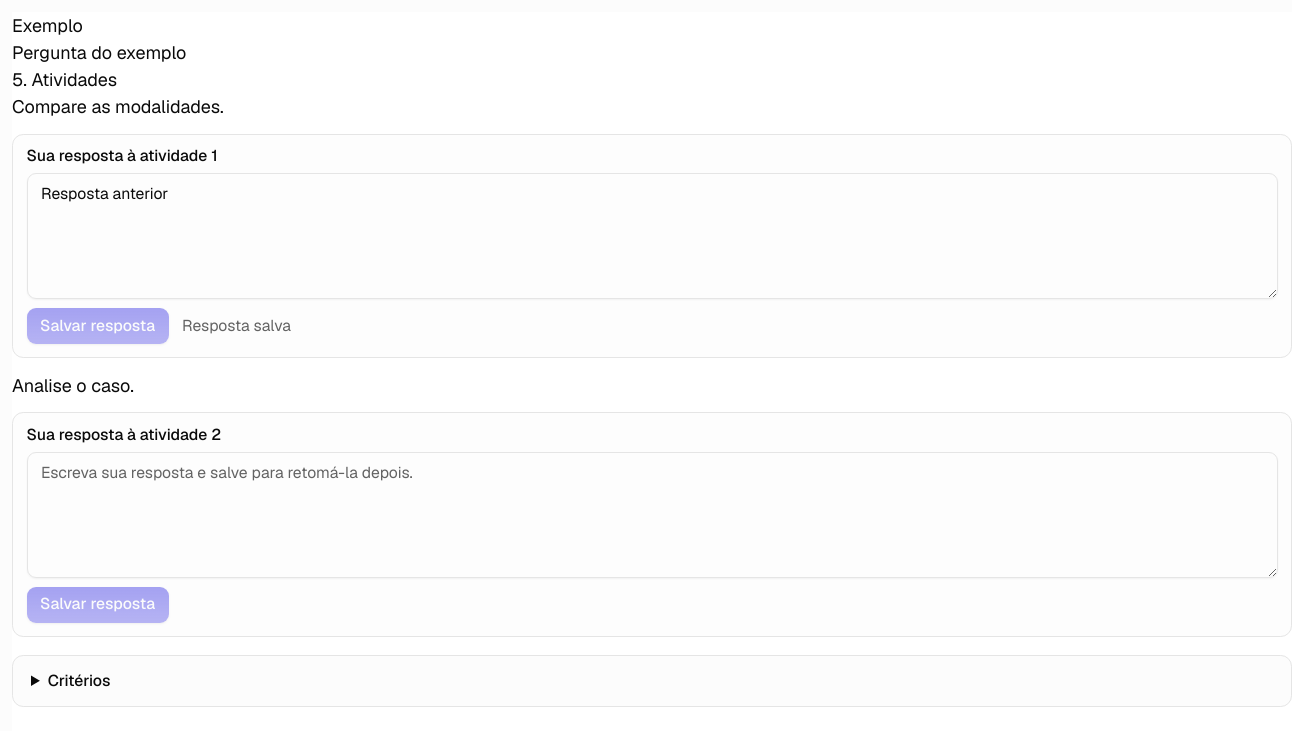
Scenario: Respostas nas perguntas dentro da aula › conserva o rascunho quando salvar falha e impede envio em branco
Expected: the button with aria-label "Salvar resposta da atividade 2" is disabled, [26,586,168,622]
Step 1. Type "Meu rascunho" into the text box labelled "Sua resposta à atividade 2" → (652, 514), box [26,452,1278,578]
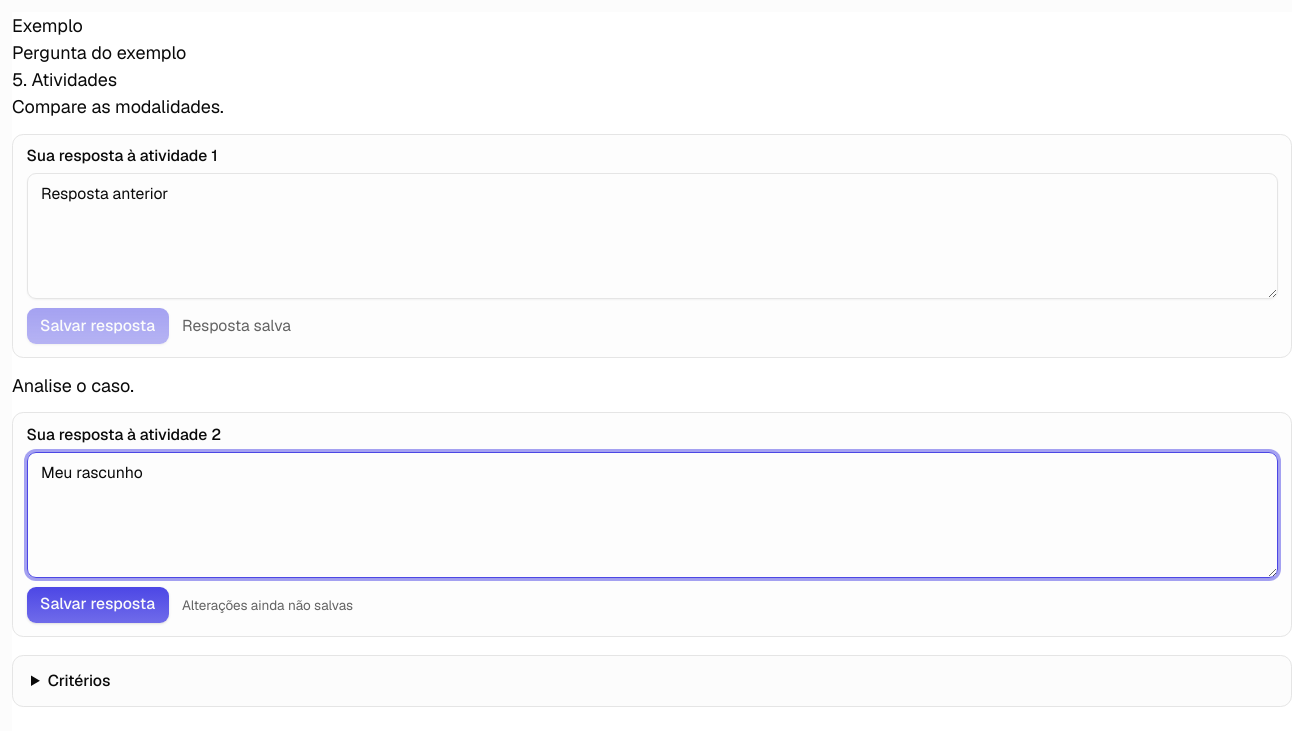
Step 2. Click the button with aria-label "Salvar resposta da atividade 2" → (98, 604), box [26,586,168,622]
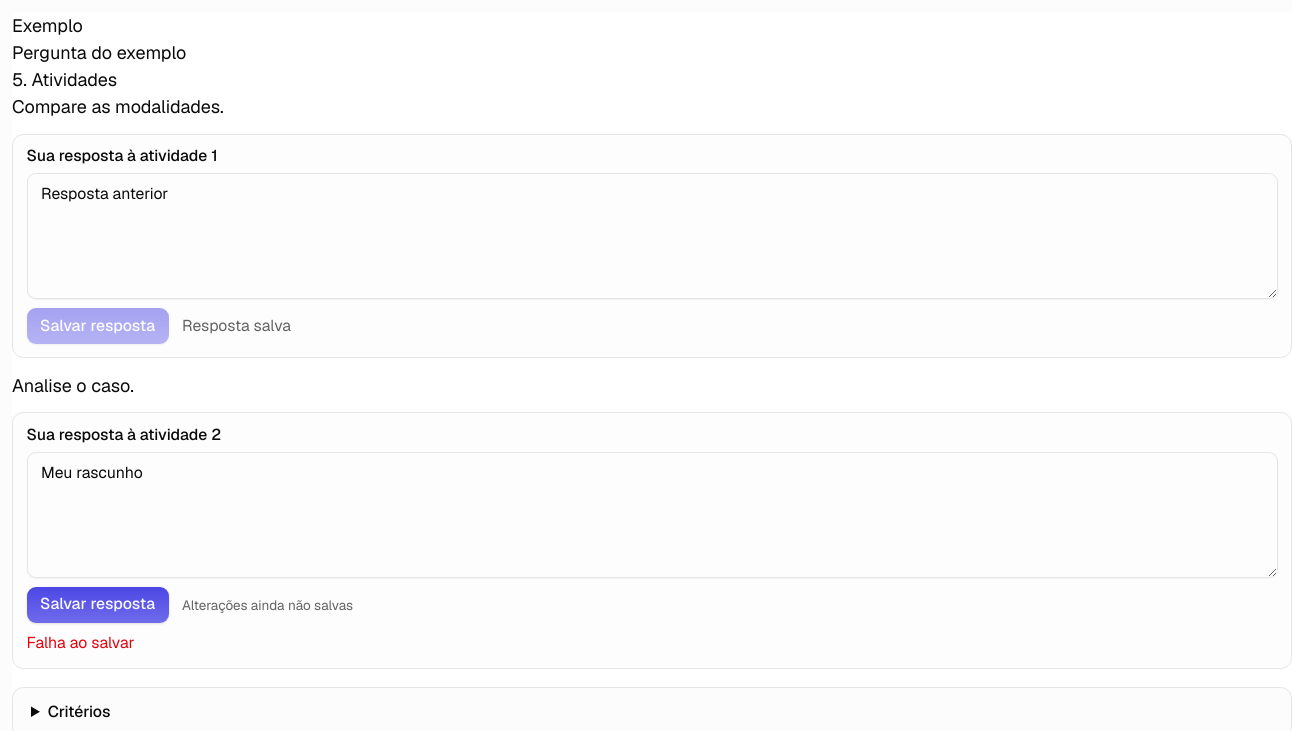
Result: the message "Falha ao salvar" is shown at [26,632,134,652]
